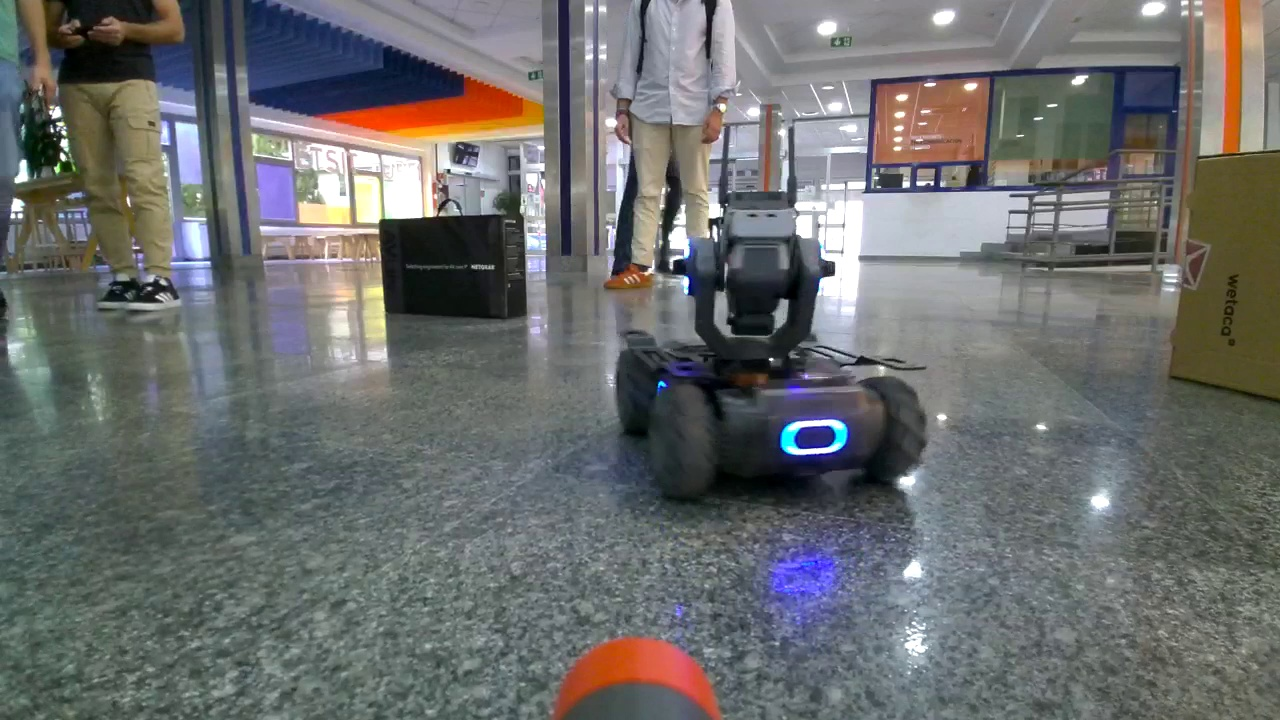robot: (615, 203, 924, 504)
